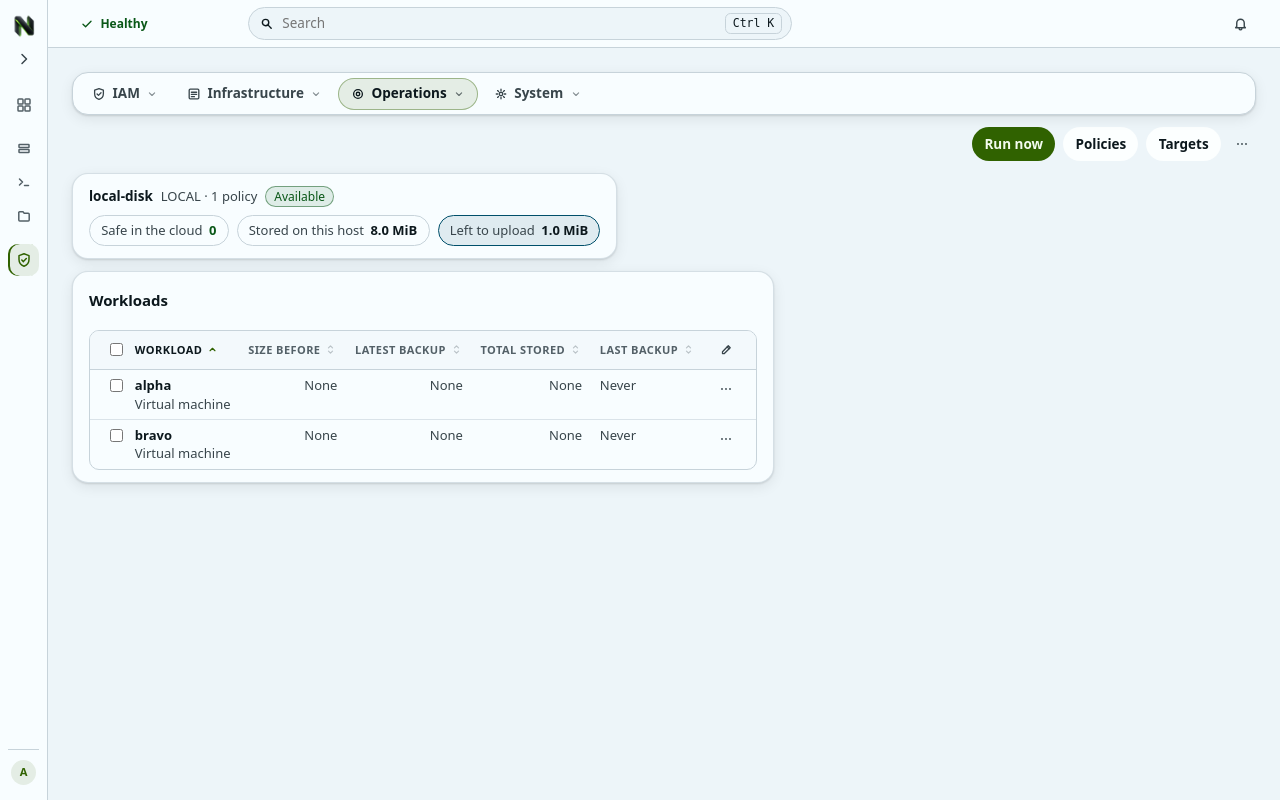
it: Backups page › shows why Run now failed when no workload can be copied
Click the button "Run now": (1014,144) [972,127,1055,161]
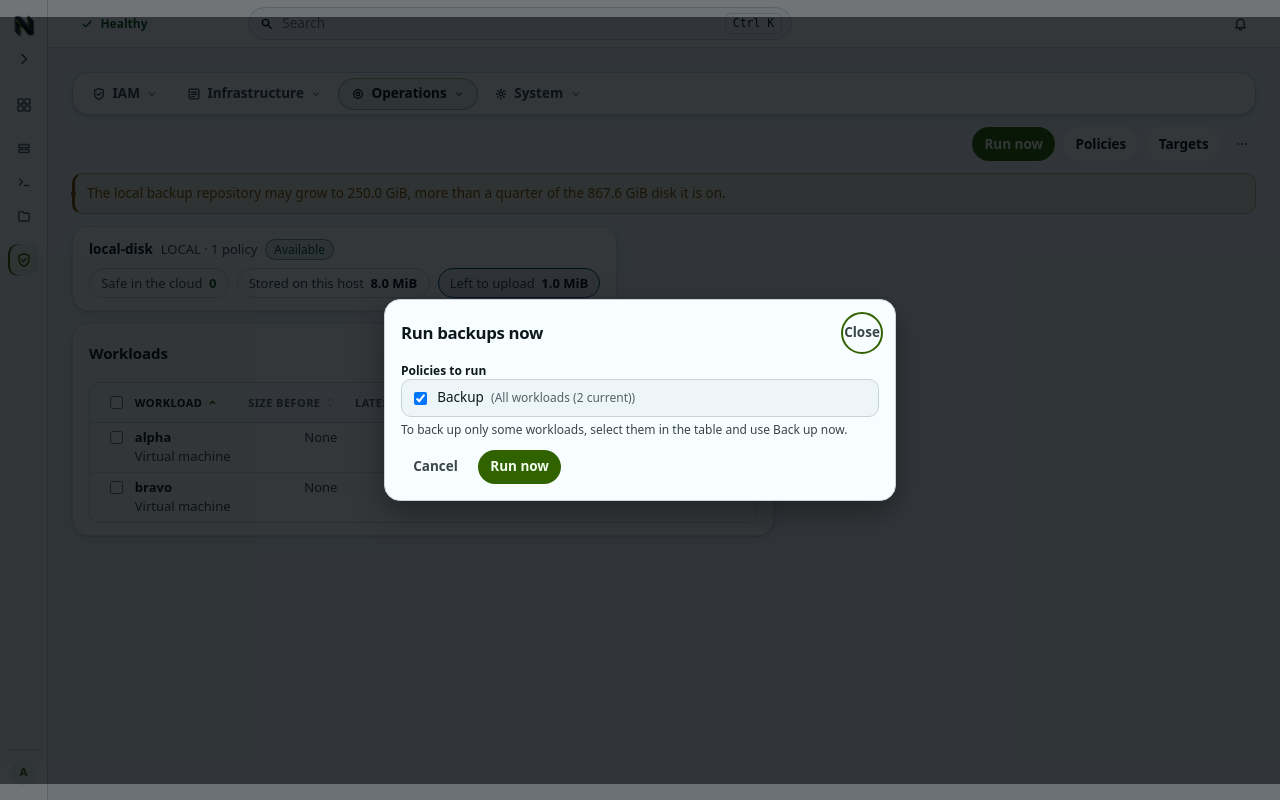
Click the button "Run now": (520,467) [478,450,561,484]
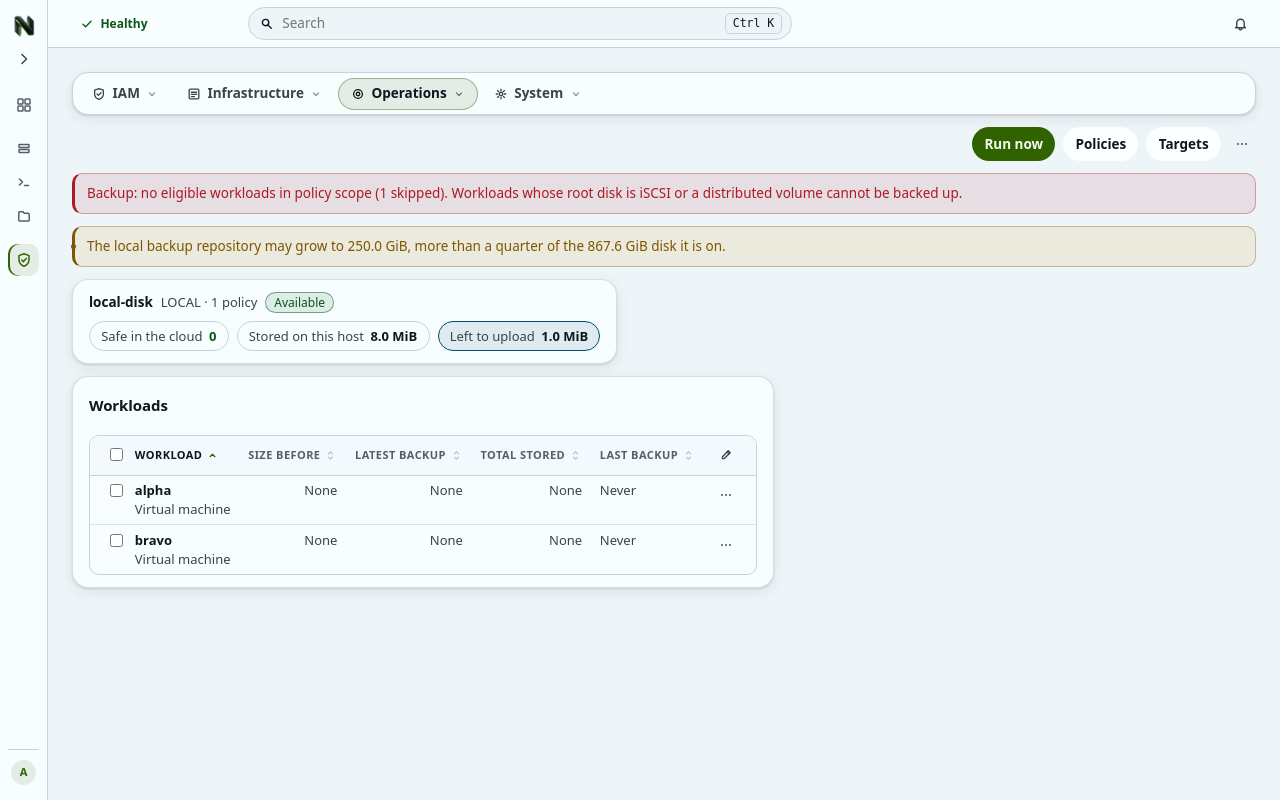
Expected: the message shows "root disk is iscsi or a distributed volume", [87,184,962,202]
